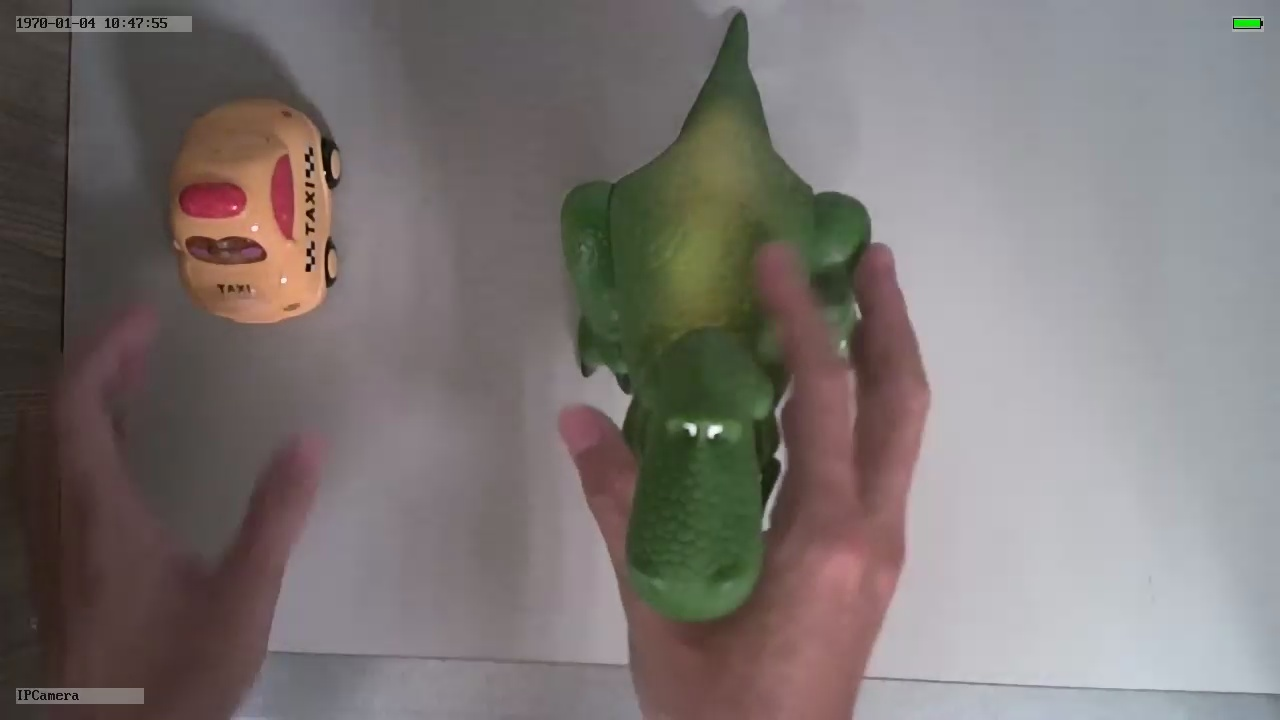car: (169, 94, 348, 324)
